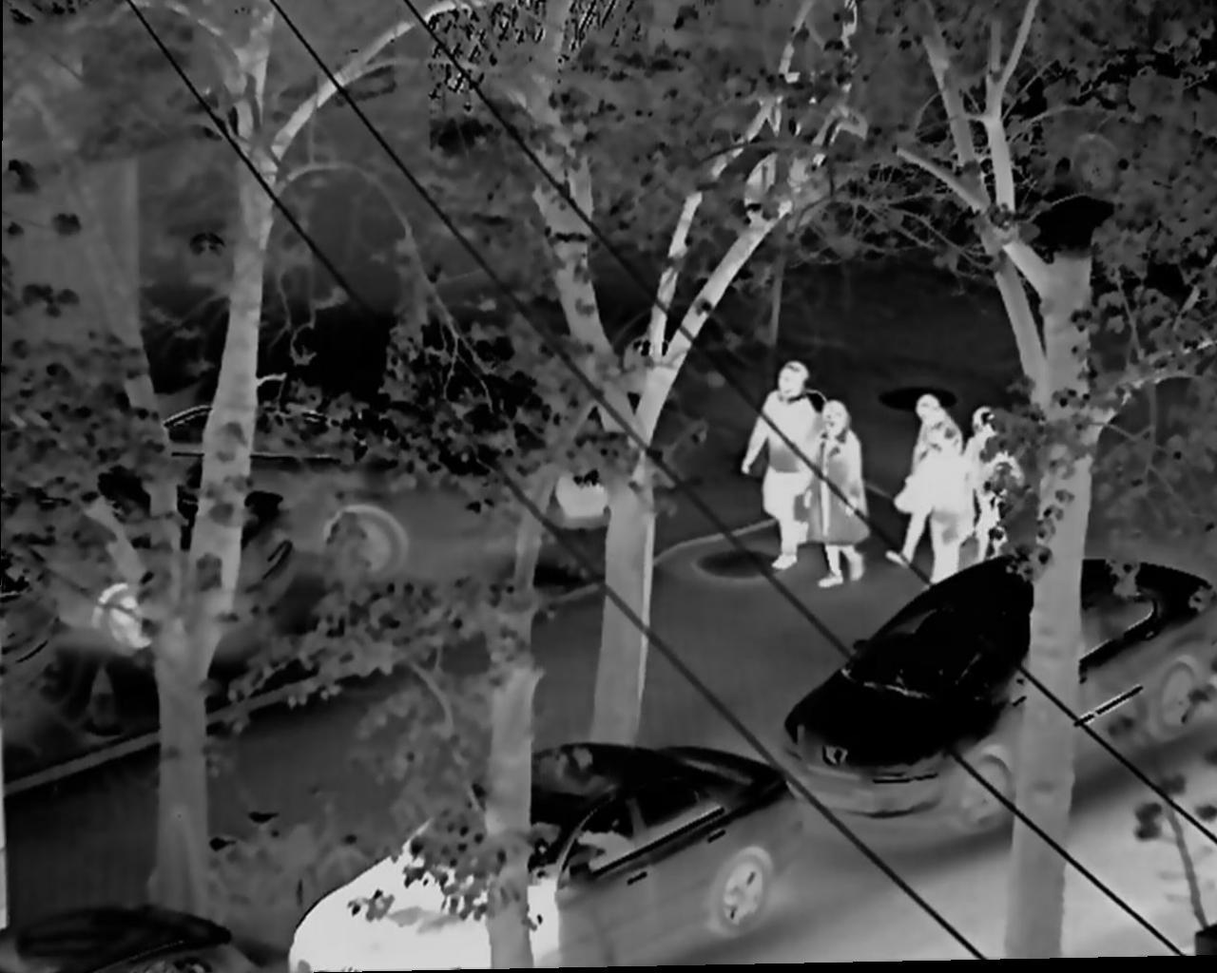person: (741, 357, 830, 576), (955, 401, 1027, 581), (805, 396, 871, 591), (898, 392, 956, 567)
